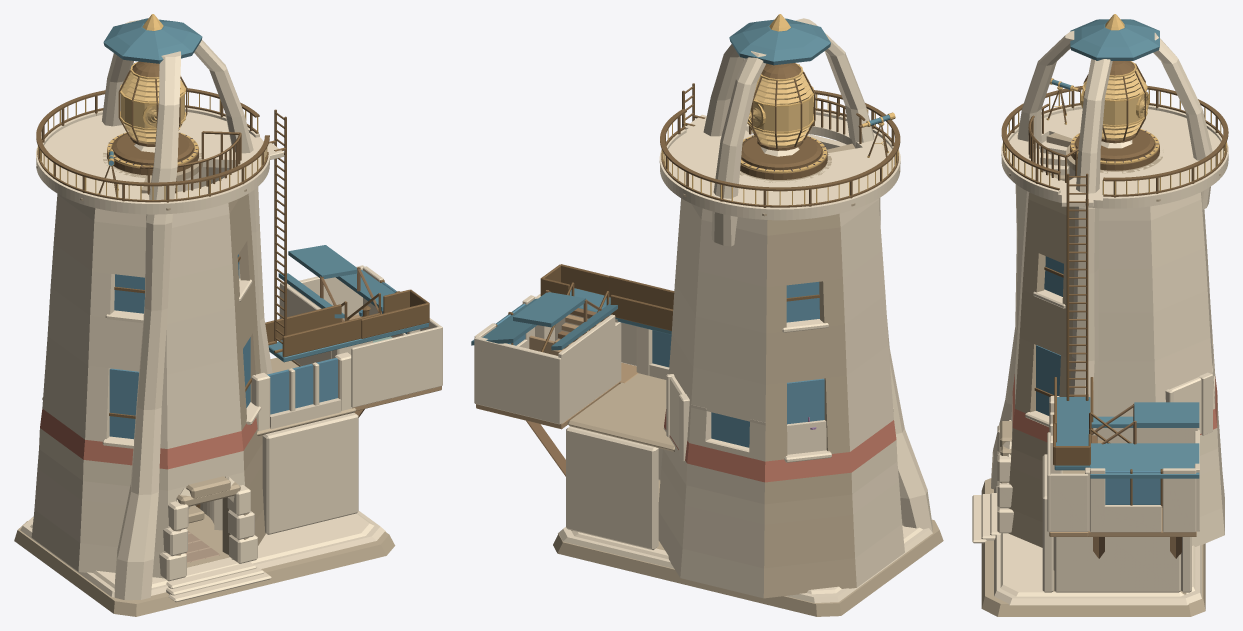
Rendered from phare.glb.
3 renders of one model, left to right at view 1: azimuth 30°, elevation 25°; view 2: azimuth 150°, elevation 25°; view 3: azimuth 270°, elevation 25°, orthographic. The views are drawn at different scales.
Visible parts, largest first — view 1: Nervure · face sur le port, Aile · mur bas au sud, Paroi sud du couloir, Assise taillée.072, Soubassement · première strate, Nervure · face sur le cap Est, Soubassement · dalle haute, Assise taillée.073, Assise taillée.047, Assise taillée.075, Coiffe basse en cuivre, Assise taillée.074 (+53 smaller); view 2: Aile · mur bas au nord, Mur du fond, Nervure · face sur le port, Soubassement · première strate, Aile · bandeau de pierre, Assise taillée.037, Mur de la chambre côté tour, Assise taillée.031, Nervure · contrefiche arrière, Assise taillée.040, Assise taillée.026, Assise taillée.021 (+51 smaller); view 3: Nervure · face sur le cap Est, Aile · mur bas est, Nervure · face sur le port, Soubassement · première strate, Versant de cuivre côté mer, Soubassement · dalle haute, Coiffe basse en cuivre, Assise taillée.005, Soubassement · seconde strate, Assise taillée.006, Assise taillée.016, Assise taillée.008 (+54 smaller).
Boxes of the visible parts, box(x1,y1,x2,y2) form: Nervure · face sur le port: box(114, 51, 181, 600); Aile · mur bas au sud: box(262, 412, 358, 534); Paroi sud du couloir: box(351, 326, 442, 407); Assise taillée.072: box(167, 358, 241, 448); Soubassement · première strate: box(14, 521, 395, 616); Nervure · face sur le cap Est: box(194, 40, 272, 374); Soubassement · dalle haute: box(30, 513, 374, 588); Assise taillée.073: box(166, 307, 237, 374); Assise taillée.047: box(42, 336, 88, 439); Assise taillée.075: box(169, 214, 232, 278); Coiffe basse en cuivre: box(103, 18, 202, 63); Assise taillée.074: box(167, 264, 234, 323); Aile · mur bas au nord: box(566, 426, 658, 549); Mur du fond: box(474, 336, 561, 424); Nervure · face sur le port: box(795, 18, 932, 531); Soubassement · première strate: box(553, 519, 943, 616); Aile · bandeau de pierre: box(567, 373, 674, 451); Assise taillée.037: box(766, 324, 846, 384); Mur de la chambre côté tour: box(558, 314, 615, 423); Assise taillée.031: box(764, 514, 854, 568); Nervure · contrefiche arrière: box(711, 51, 766, 246); Assise taillée.040: box(766, 227, 842, 287); Assise taillée.026: box(693, 316, 766, 384); Assise taillée.021: box(682, 505, 764, 568); Nervure · face sur le cap Est: box(1053, 59, 1112, 570); Aile · mur bas est: box(1054, 537, 1180, 592); Nervure · face sur le port: box(991, 31, 1074, 489); Soubassement · première strate: box(981, 478, 1205, 616); Versant de cuivre côté mer: box(1090, 443, 1199, 478); Soubassement · dalle haute: box(1000, 533, 1195, 596); Coiffe basse en cuivre: box(1070, 19, 1159, 60); Assise taillée.005: box(1098, 361, 1155, 416); Soubassement · seconde strate: box(994, 486, 1201, 605); Assise taillée.006: box(1098, 312, 1154, 361); Assise taillée.016: box(1153, 290, 1210, 360); Assise taillée.008: box(1098, 220, 1152, 269).
Size of what is drawn, in the model's own units: 13.42 by 19.02 by 8.57.
